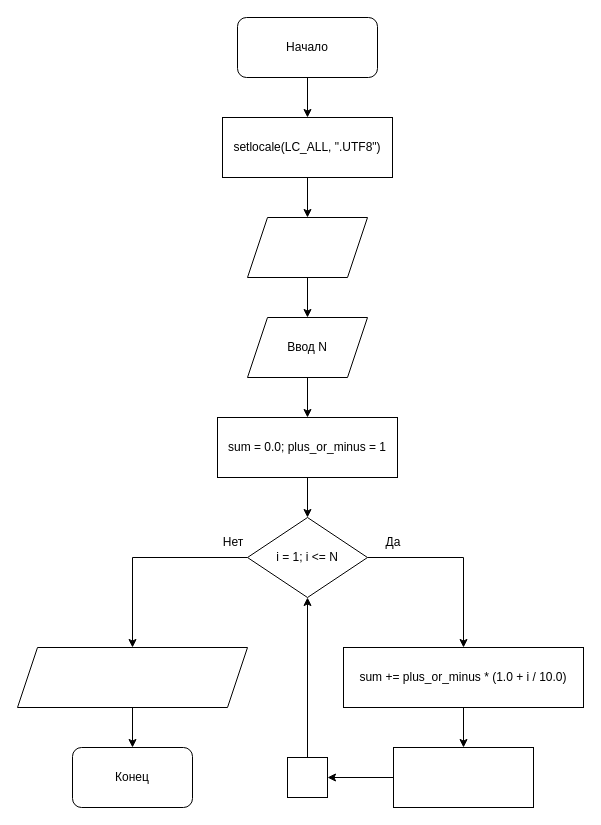
The diagram is 601 pixels wide and 825 high, and some of its shapes have lost their labels. Here are the shapes that lost their labels. From the top down, the box of each, then its label:
(246, 216, 368, 278): Вывод "N:"
(16, 646, 248, 708): Вывод "Сумма: ", sum
(286, 756, 328, 798): i++
(392, 746, 534, 808): plus_or_minus *= -1
